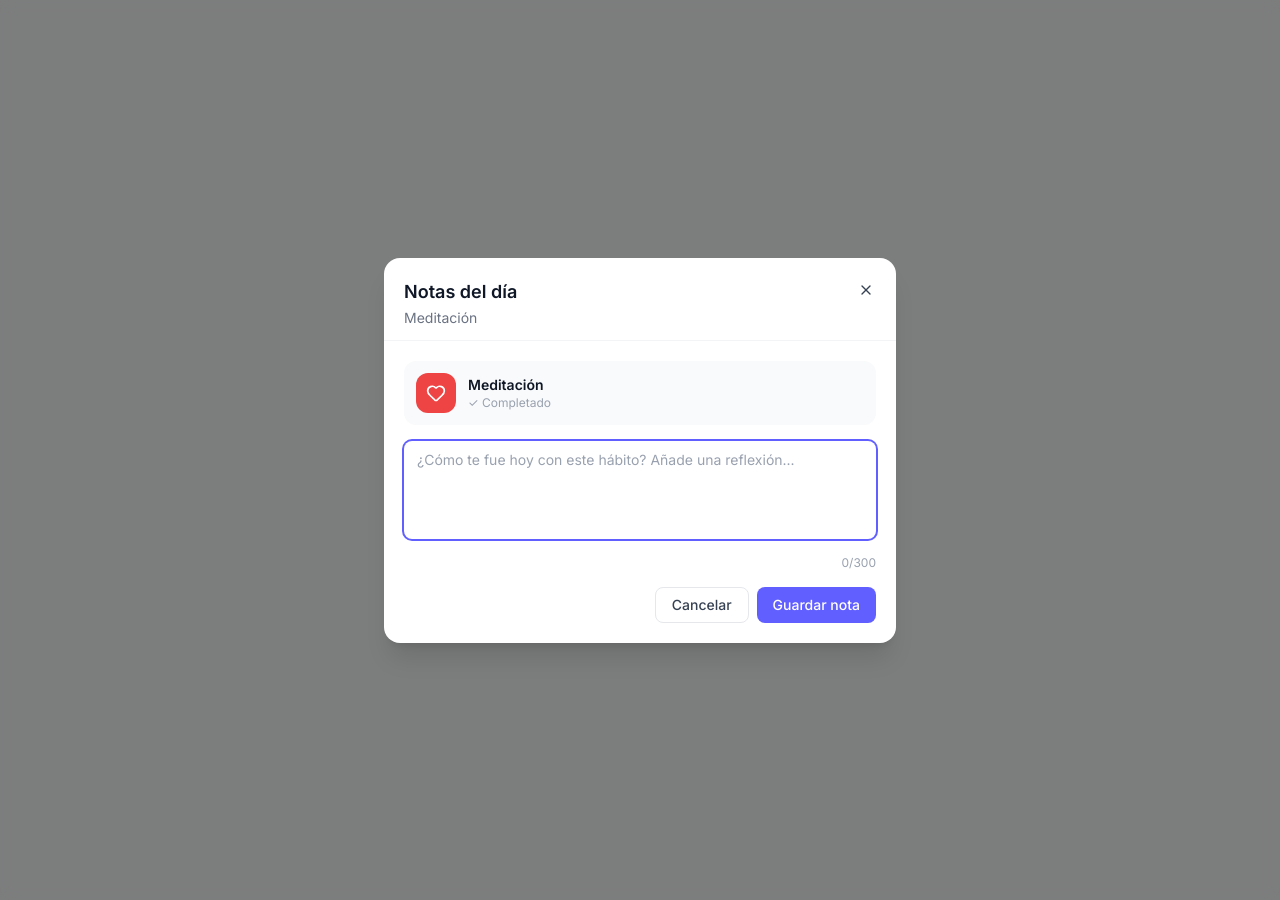
NoteDialog › actualiza el contador de caracteres al escribir
The width and height of the screenshot is (1280, 900).
Type "Hola" into the text box at (640, 490), box [404, 440, 876, 538]
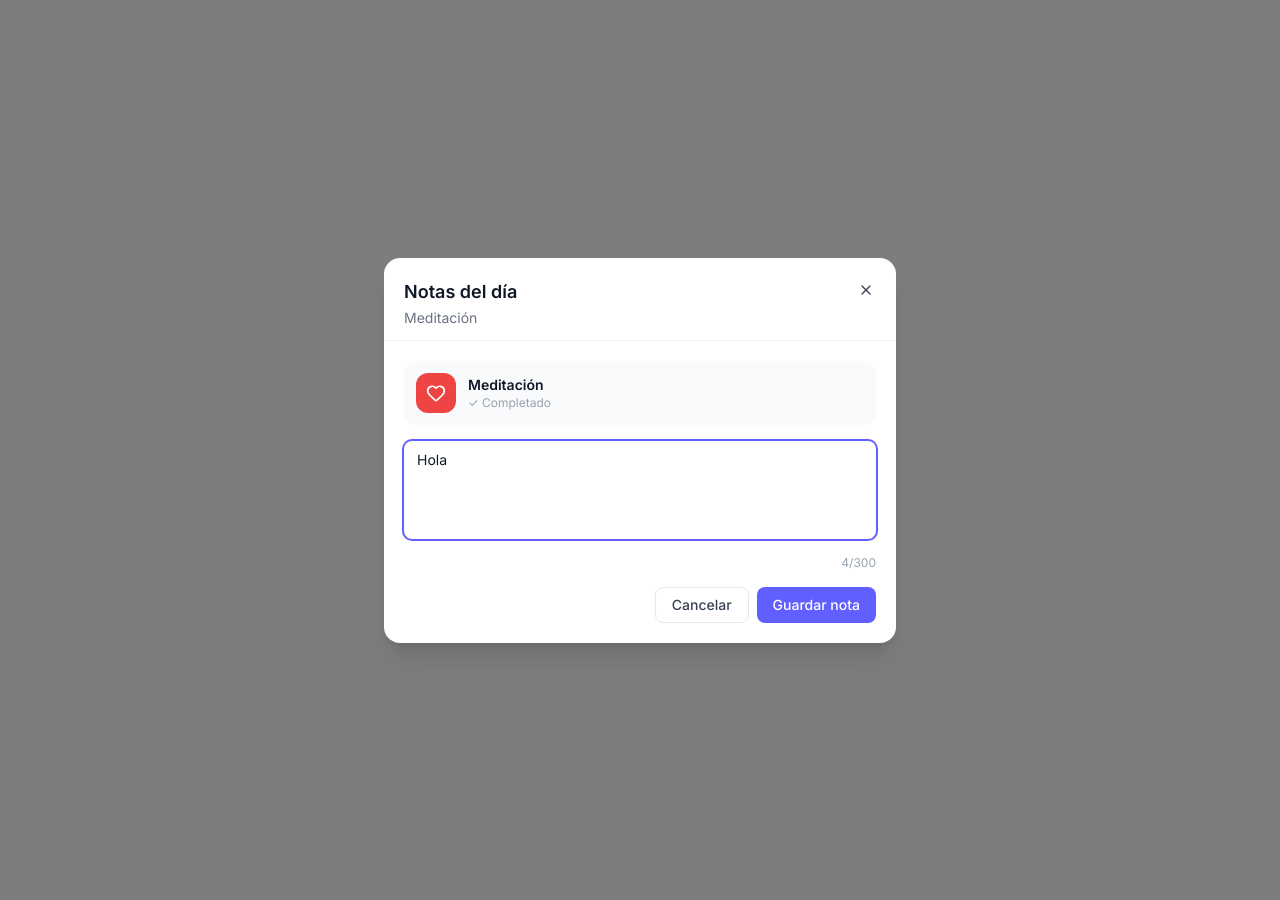
Check: the text "4/300" is shown, box [841, 554, 876, 570]
